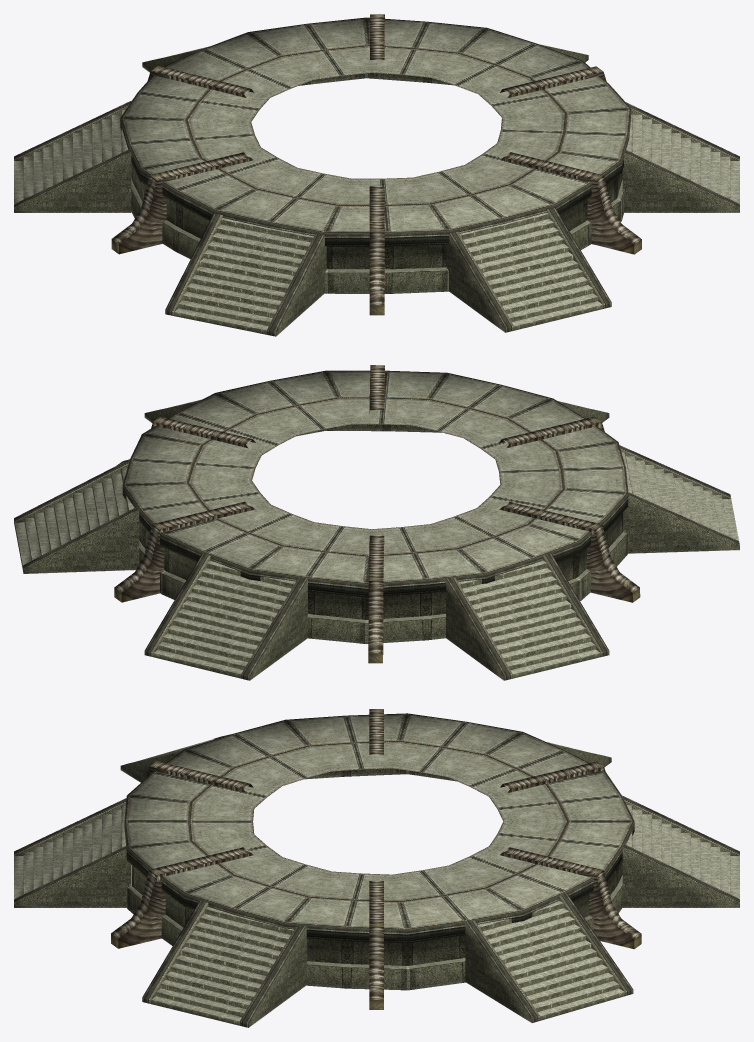
Rendered from ob-11-01-skeletontowerstair01.fbx.
The picture shows the model from 3 angles, top to bottom: view 1: azimuth 30°, elevation 25°; view 2: azimuth 150°, elevation 25°; view 3: azimuth 270°, elevation 25°; orthographic projection.
Parts seen in each view (by area): view 1: ob-11-01-skeletontower03, ob-11-01-skeletontower02; view 2: ob-11-01-skeletontower03, ob-11-01-skeletontower02; view 3: ob-11-01-skeletontower03, ob-11-01-skeletontower02.
Boxes of the visible parts, left/top/right/bottom form: ob-11-01-skeletontower03: left=14, top=17, right=739, bottom=336; ob-11-01-skeletontower02: left=111, top=14, right=641, bottom=315; ob-11-01-skeletontower03: left=14, top=370, right=739, bottom=680; ob-11-01-skeletontower02: left=114, top=365, right=640, bottom=663; ob-11-01-skeletontower03: left=14, top=713, right=739, bottom=1027; ob-11-01-skeletontower02: left=111, top=709, right=641, bottom=1009.
Size of the model in its own units: 46.17 by 4.77 by 48.57.
